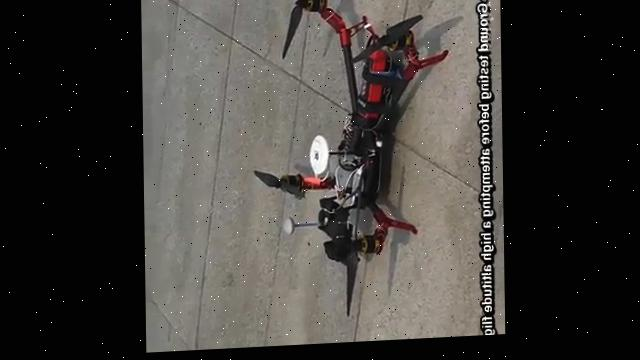drone: (246, 0, 453, 327)
